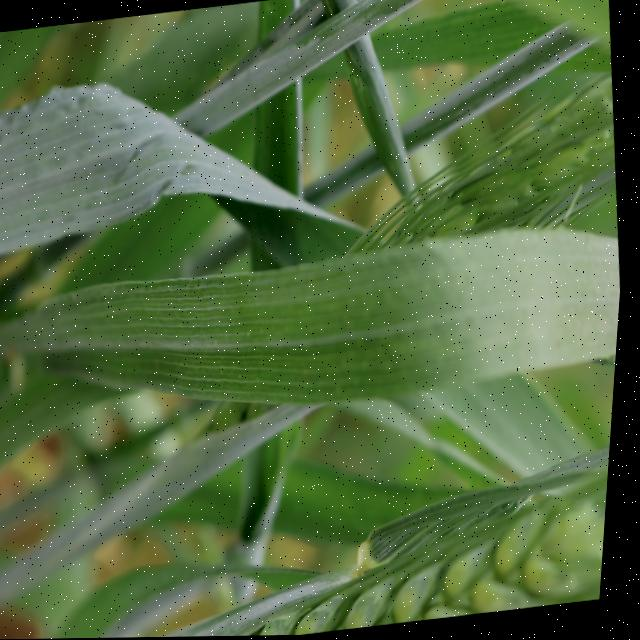healthy_wheat: (0, 199, 629, 496), (0, 413, 618, 640), (0, 0, 378, 315), (326, 0, 629, 225)
